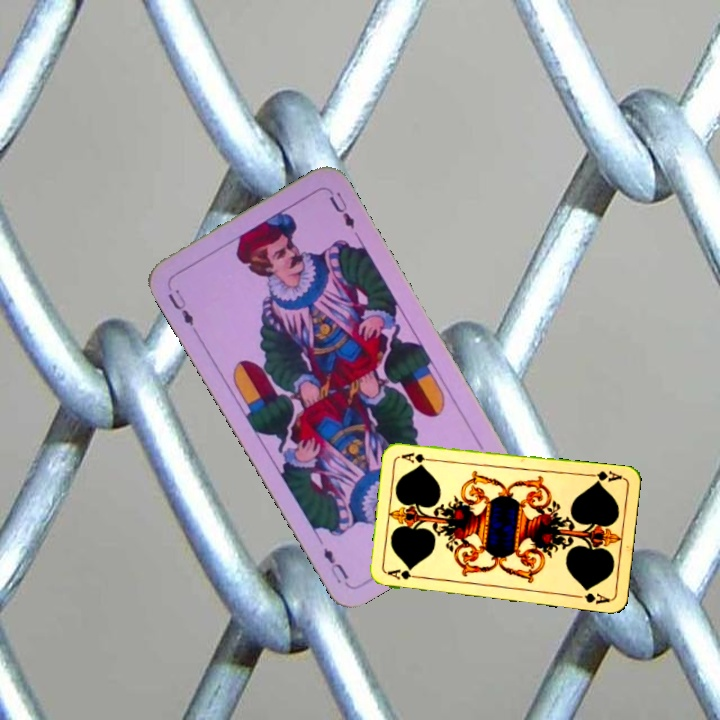EU: (164, 285, 196, 328)
GA: (584, 467, 624, 486), (383, 565, 424, 582)
